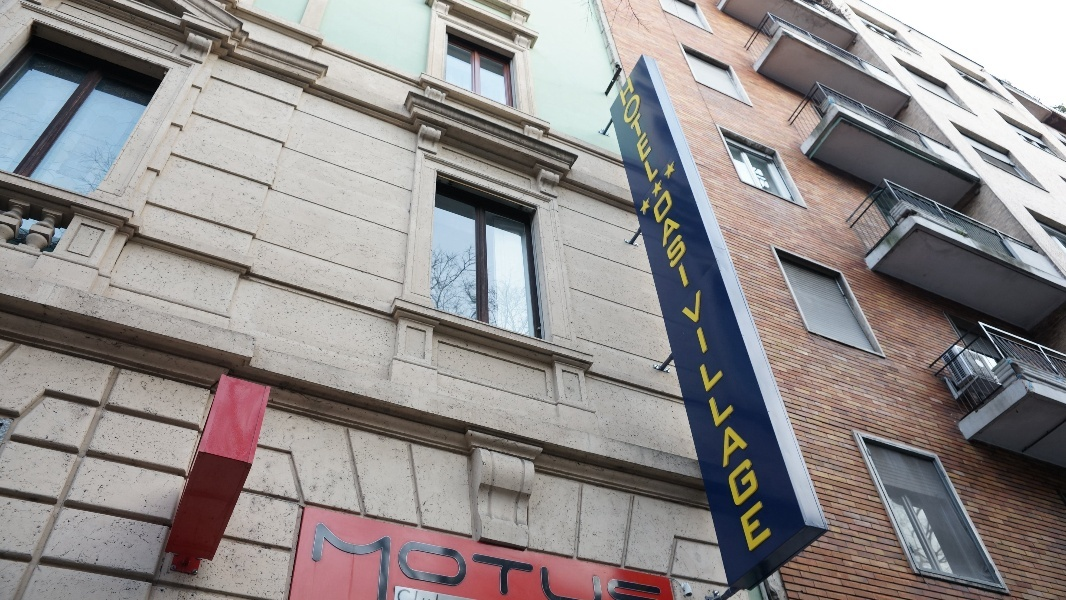text: (673, 188, 688, 556), (689, 188, 704, 556), (705, 188, 720, 556), (721, 188, 736, 556), (737, 188, 752, 556), (753, 188, 768, 556), (769, 188, 774, 556), (641, 73, 656, 187), (321, 524, 336, 600), (337, 524, 352, 600), (353, 524, 368, 600), (369, 524, 384, 600), (385, 524, 400, 600), (401, 524, 416, 600), (417, 524, 432, 600), (433, 524, 448, 600), (449, 524, 464, 600), (465, 524, 480, 600), (481, 524, 496, 600), (497, 524, 512, 600), (513, 524, 528, 600), (669, 188, 672, 556), (631, 73, 640, 187), (657, 73, 666, 187), (545, 568, 560, 599), (561, 568, 576, 599), (577, 568, 592, 599), (593, 568, 608, 599), (609, 568, 624, 599), (625, 568, 640, 599), (641, 568, 656, 599), (657, 568, 667, 599), (529, 524, 533, 600), (539, 568, 544, 599), (318, 524, 320, 600)
